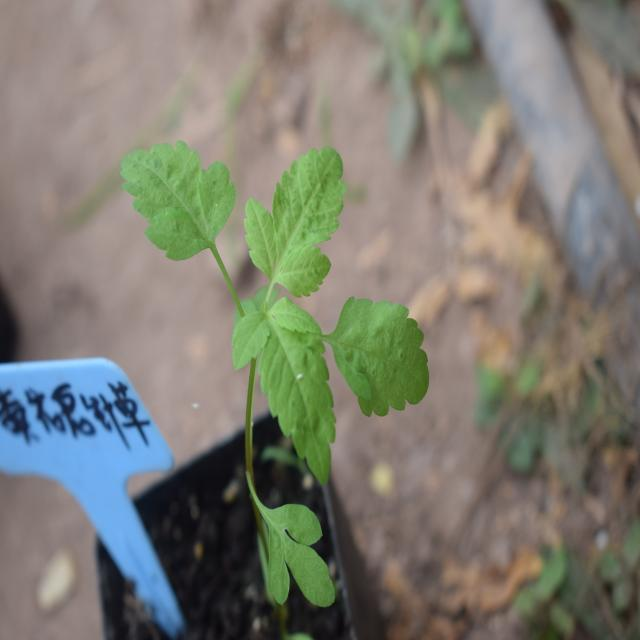Bidens pilosa: (125, 102, 422, 577)
